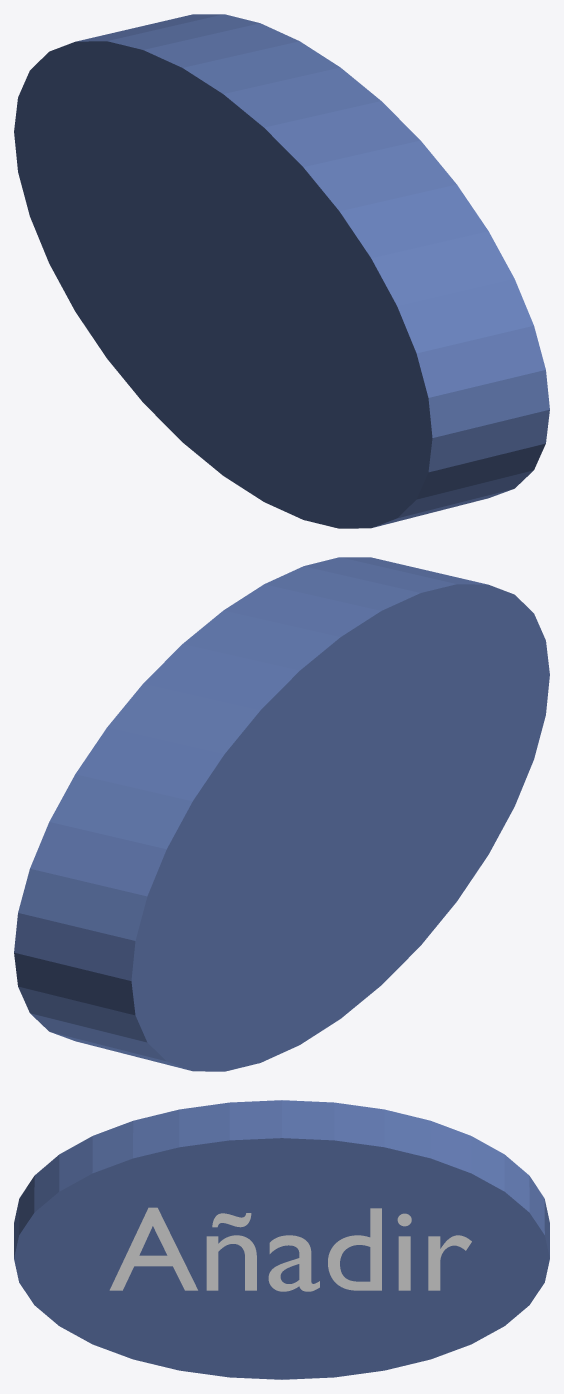
The model's file is añadir.glb.
The picture shows the model from 3 angles, top to bottom: view 1: azimuth 30°, elevation 25°; view 2: azimuth 150°, elevation 25°; view 3: azimuth 270°, elevation 25°; orthographic projection. The views are drawn at different scales.
Visible parts, largest first — view 1: Cilindro; view 2: Cilindro; view 3: Cilindro, Texto.
Boxes of the visible parts, x1=… form: Cilindro: x1=14, y1=14, x2=549, y2=528; Cilindro: x1=14, y1=557, x2=549, y2=1071; Cilindro: x1=14, y1=1100, x2=549, y2=1379; Texto: x1=109, y1=1207, x2=471, y2=1291.
Bounding box in the file's own units: 0.0406 × 0.1213 × 0.2411.
